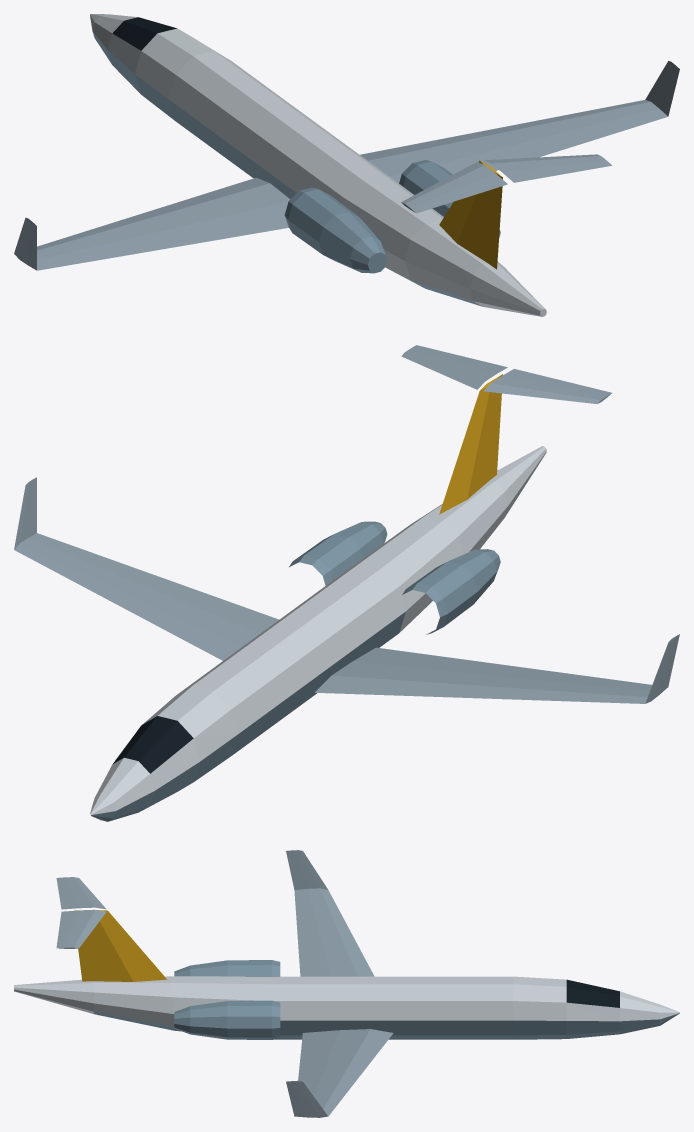
The picture shows the model from 3 angles, top to bottom: view 1: azimuth 30°, elevation 25°; view 2: azimuth 150°, elevation 25°; view 3: azimuth 270°, elevation 25°; orthographic projection. The views are drawn at different scales.
Visible parts, largest first — view 1: lod0; view 2: lod0; view 3: lod0.
Boxes of the visible parts, x1,y1,x2,y2 form: lod0: (14,14,679,316); lod0: (14,345,679,821); lod0: (14,850,679,1117).
Size of what is drawn, in the model's own units: 0.8196 by 0.2108 by 1.
